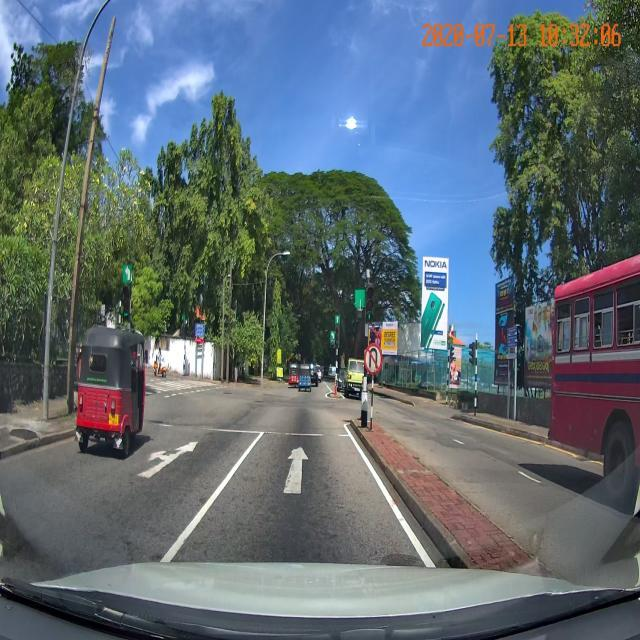forward: (210, 430, 398, 508)
